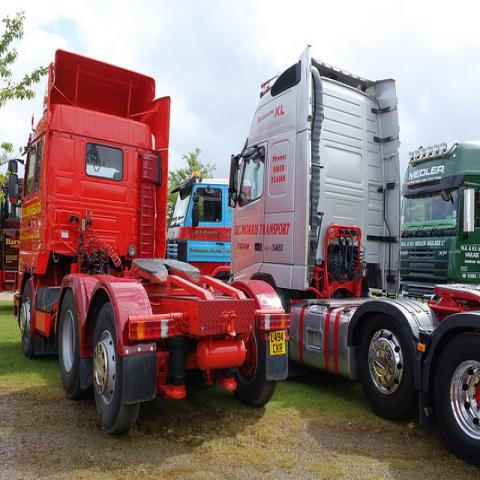truck: (227, 45, 479, 468), (15, 52, 289, 437), (401, 139, 479, 295), (166, 166, 232, 282)
